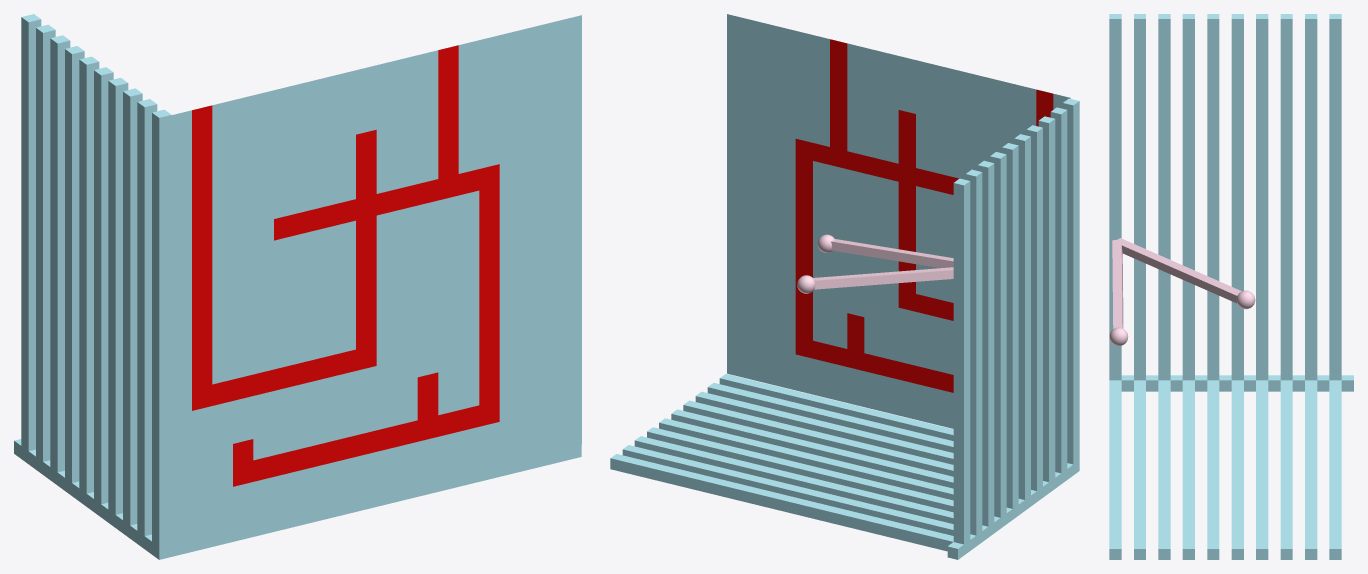
The model's file is simple_006_Pivot_02.dae.
The picture shows the model from 3 angles, left to right: view 1: azimuth 30°, elevation 25°; view 2: azimuth 150°, elevation 25°; view 3: azimuth 270°, elevation 25°; orthographic projection. The views are drawn at different scales.
Parts seen in each view (by area): view 1: pPlane1, pCube1; view 2: pPlane1, pCube1, pCube3, pCube2; view 3: pCube1, pCube3, pCube2.
Part boxes in pixels (x1=…): pPlane1: x1=171, y1=15, x2=581, y2=544; pCube1: x1=14, y1=14, x2=581, y2=559; pPlane1: x1=727, y1=14, x2=1070, y2=428; pCube1: x1=610, y1=98, x2=1079, y2=559; pCube3: x1=813, y1=267, x2=953, y2=289; pCube2: x1=831, y1=239, x2=953, y2=268; pCube1: x1=1109, y1=14, x2=1353, y2=559; pCube3: x1=1114, y1=238, x2=1241, y2=303; pCube2: x1=1112, y1=239, x2=1123, y2=328.
Bounding box in the file's own units: 33.62 × 20.11 × 33.65.
